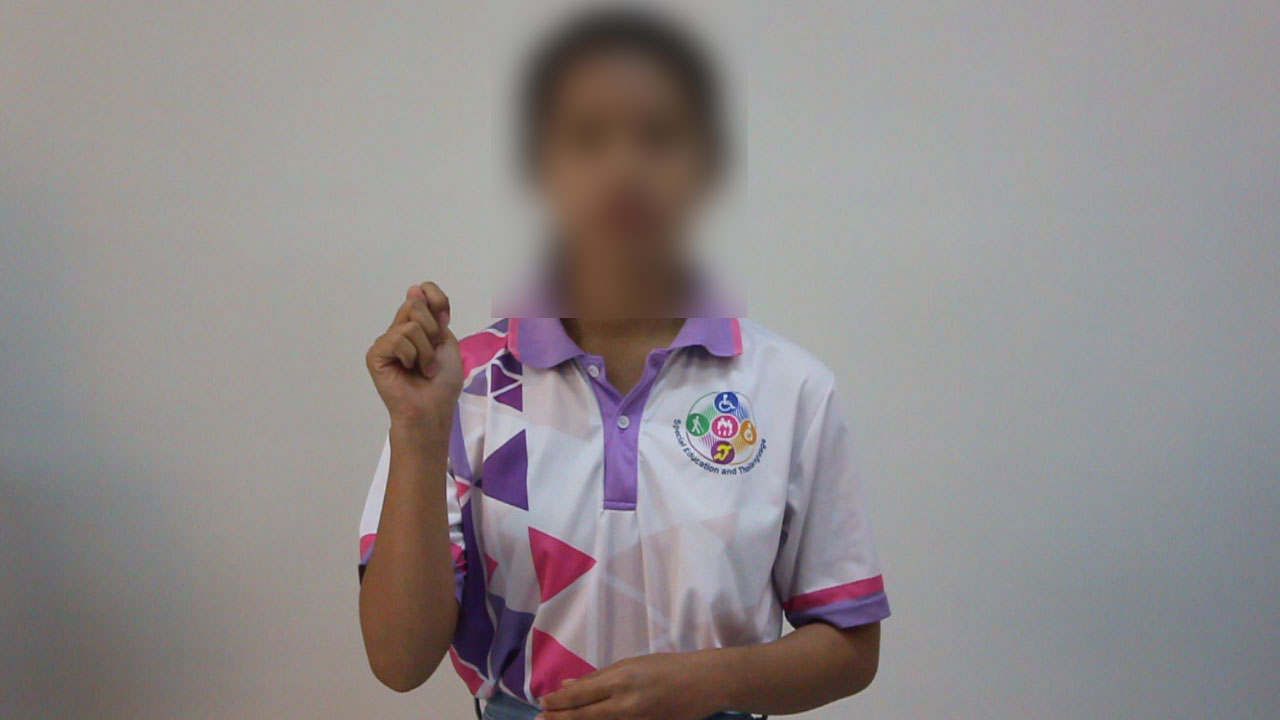tor: (356, 270, 507, 444)
